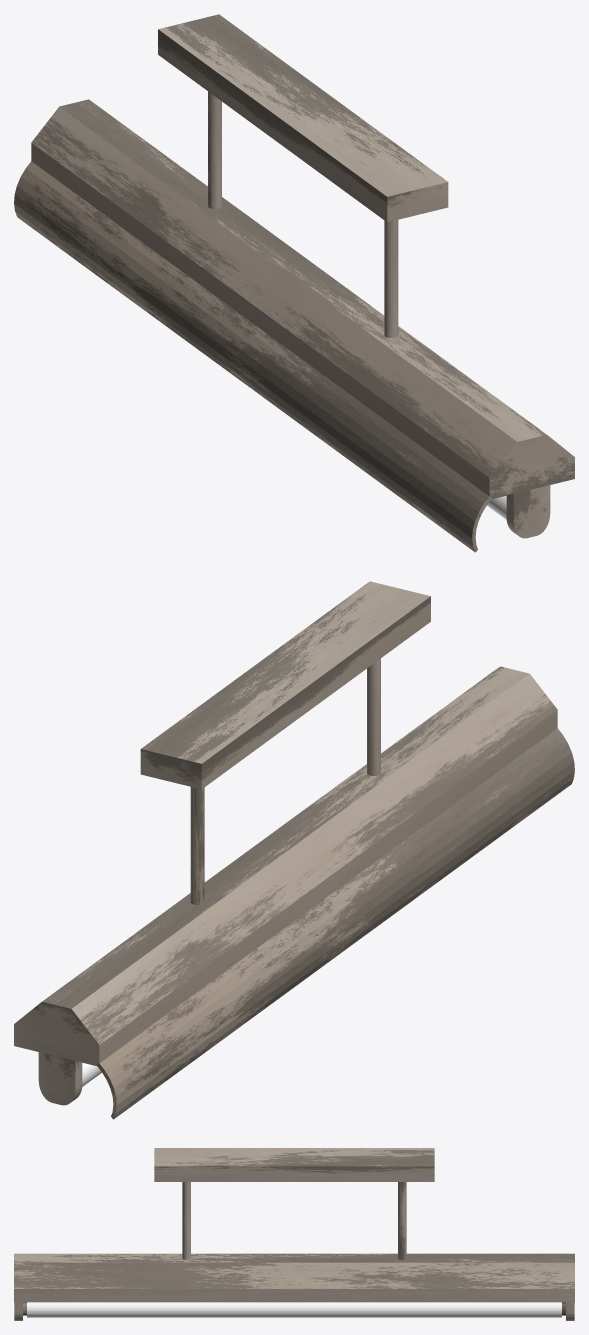
Rendered from Front_of_Room_light_dirty_wt.fbx.
The picture shows the model from 3 angles, top to bottom: view 1: azimuth 30°, elevation 25°; view 2: azimuth 150°, elevation 25°; view 3: azimuth 270°, elevation 25°; orthographic projection. The views are drawn at different scales.
Parts seen in each view (by area): view 1: Light Main body, shade, Ceiling mount, Light socket, support pole.001, support pole; view 2: Light Main body, shade, Ceiling mount, Light socket.003, support pole, support pole.001; view 3: Light Main body, Ceiling mount, flourescent tube, support pole, support pole.001.
Part boxes in pixels (left/top/right/bottom): Light Main body: left=31, top=99, right=574, bottom=499; shade: left=14, top=161, right=491, bottom=552; Ceiling mount: left=158, top=14, right=448, bottom=222; Light socket: left=506, top=485, right=550, bottom=538; support pole.001: left=384, top=220, right=398, bottom=337; support pole: left=208, top=91, right=221, bottom=208; Light Main body: left=14, top=666, right=557, bottom=1065; shade: left=96, top=728, right=574, bottom=1119; Ceiling mount: left=140, top=581, right=430, bottom=789; Light socket.003: left=38, top=1052, right=82, bottom=1105; support pole: left=190, top=787, right=204, bottom=904; support pole.001: left=367, top=658, right=380, bottom=775; Light Main body: left=14, top=1253, right=574, bottom=1302; Ceiling mount: left=154, top=1148, right=434, bottom=1181; flourescent tube: left=27, top=1302, right=561, bottom=1317; support pole: left=398, top=1182, right=406, bottom=1259; support pole.001: left=182, top=1182, right=190, bottom=1259.
Bounding box in the file's own units: 16.84 × 41.56 × 130.
Materials: 4 (4 with a texture image).
